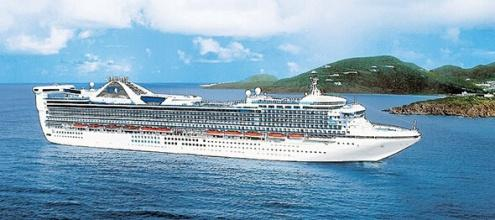youlun: (24, 78, 428, 160)
